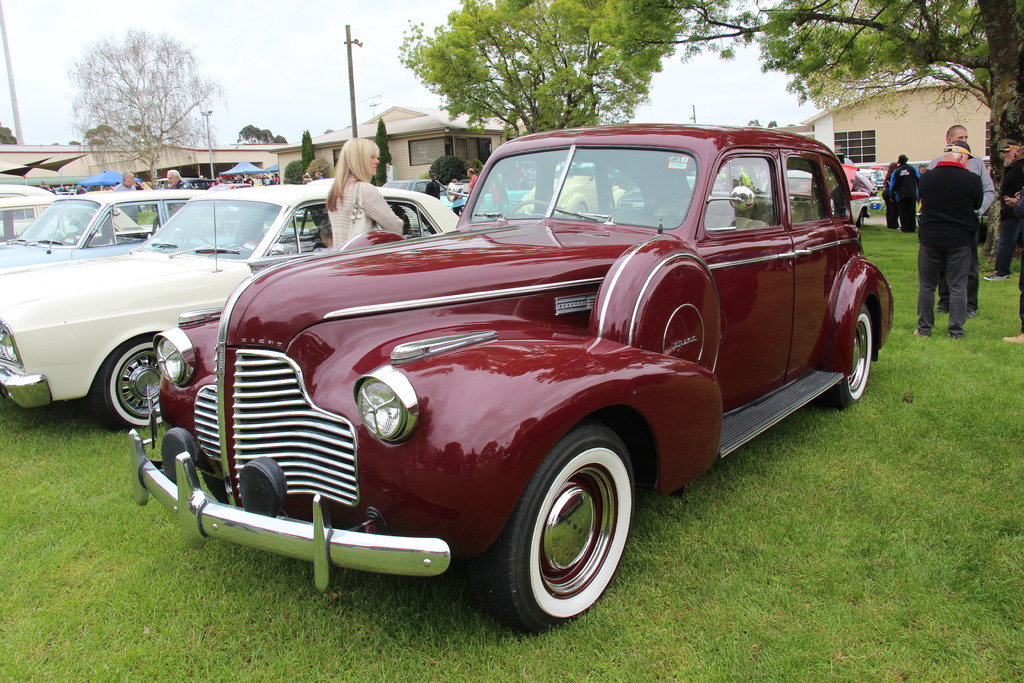Car: (0, 122, 992, 636)
